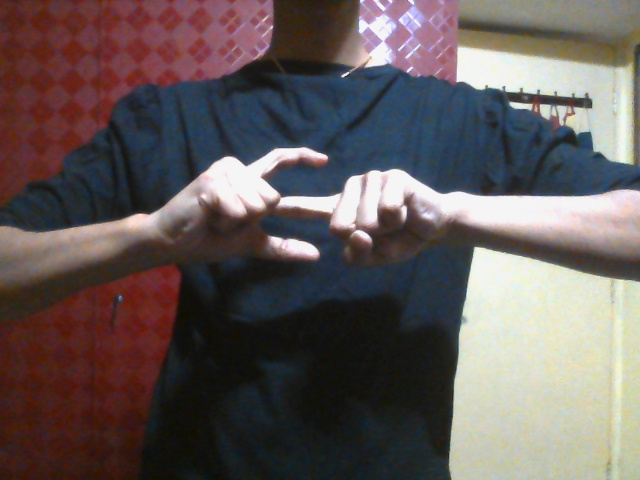E: (178, 146, 424, 274)
